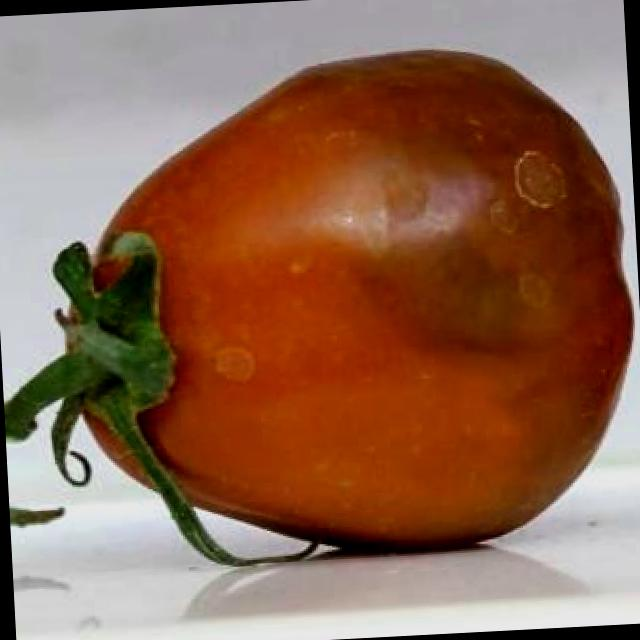Rotten_Tomato: (42, 37, 640, 575)
